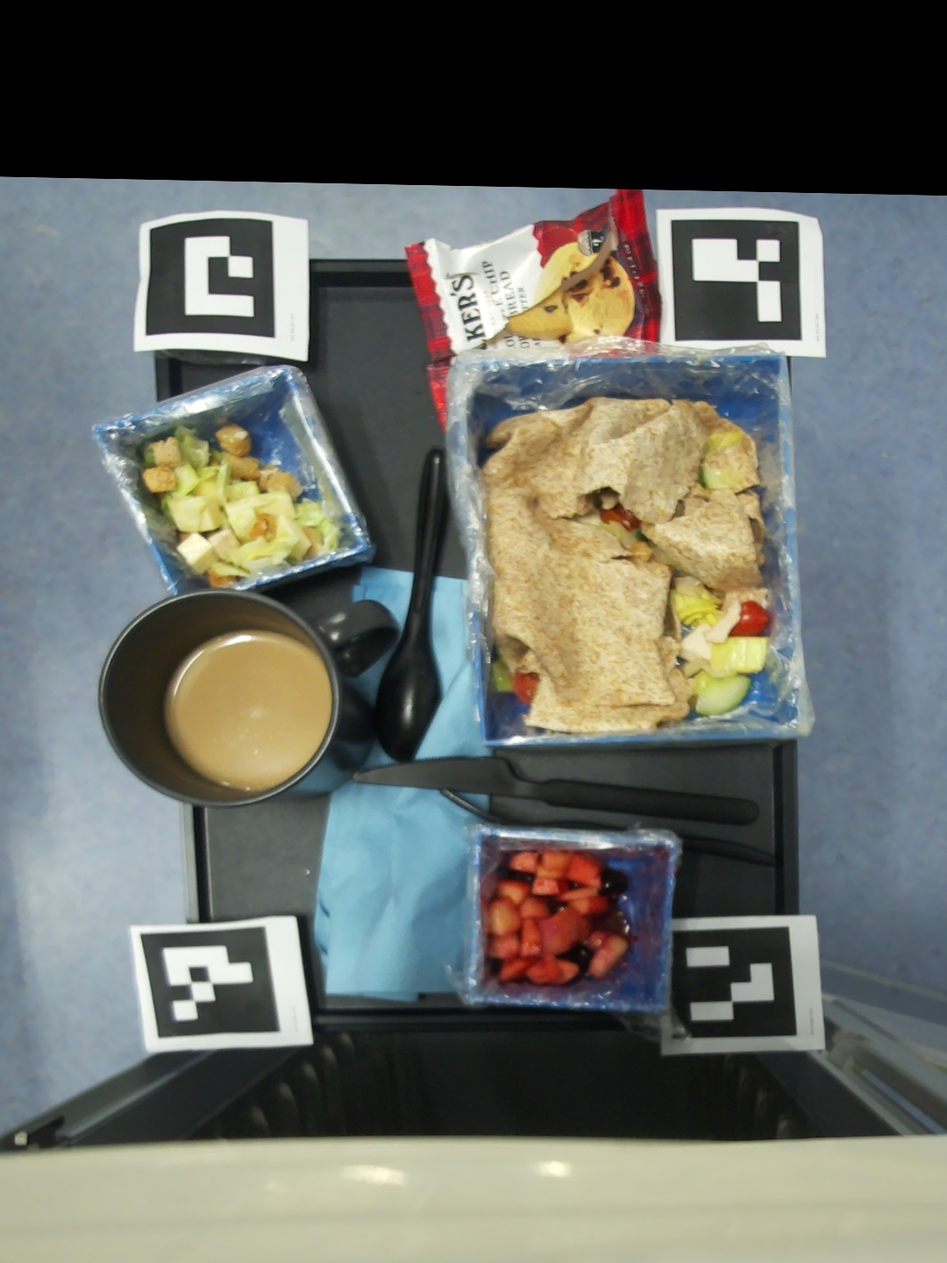coffee_cup: (97, 589, 401, 806)
cookie: (404, 189, 662, 432)
fruit_salad: (484, 842, 633, 981)
side_salad: (140, 420, 345, 586)
wrap_half_1: (482, 396, 765, 733)
wrap_half_2: (678, 426, 774, 715)
